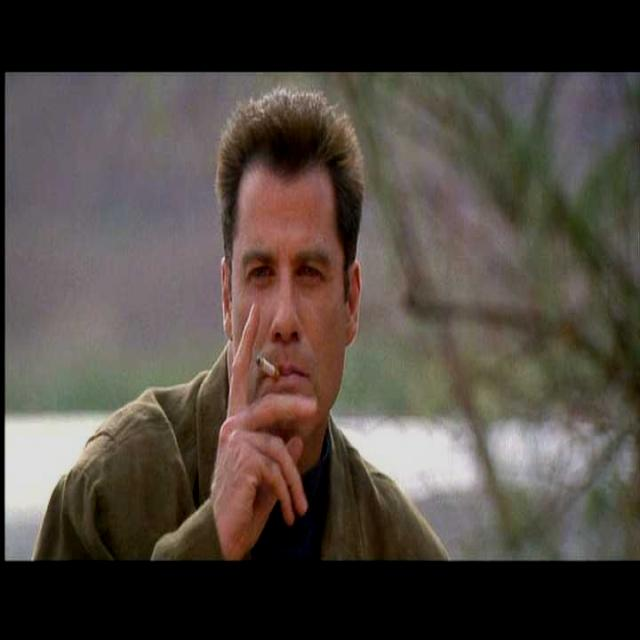Smooking: (247, 342, 287, 383)
